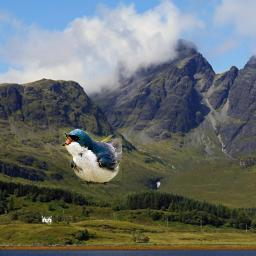Swallow: (59, 127, 122, 187)
